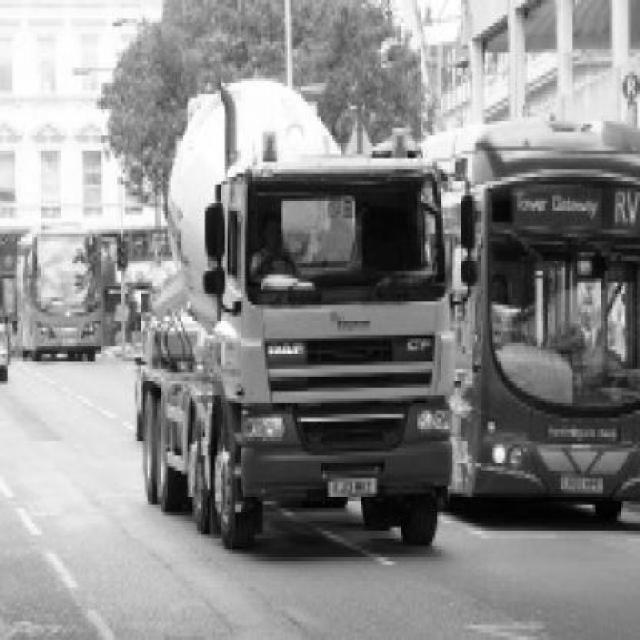Bus: (422, 118, 640, 522), (17, 225, 101, 362)
Concrete Mixer: (134, 81, 479, 551)
